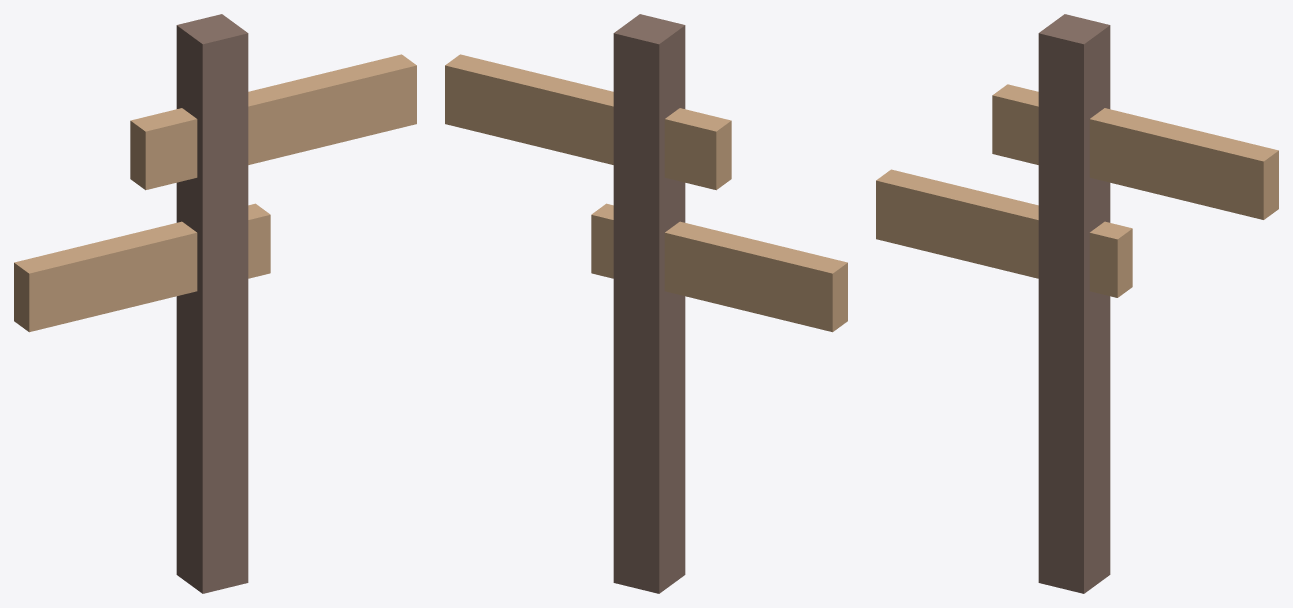
The model's file is street_signpost.glb.
The picture shows the model from 3 angles, left to right: view 1: azimuth 30°, elevation 25°; view 2: azimuth 150°, elevation 25°; view 3: azimuth 330°, elevation 25°; orthographic projection.
Visible parts, largest first — view 1: wood_dark, wood_light; view 2: wood_dark, wood_light; view 3: wood_dark, wood_light.
Part boxes in pixels (box(x1,y1,x2,y2)): wood_dark: box(176, 14, 248, 593); wood_light: box(14, 54, 416, 332); wood_dark: box(613, 14, 685, 593); wood_light: box(445, 54, 847, 332); wood_dark: box(1038, 14, 1110, 593); wood_light: box(876, 84, 1278, 297).
Bounding box in the file's own units: 2.22 × 3 × 0.26.
